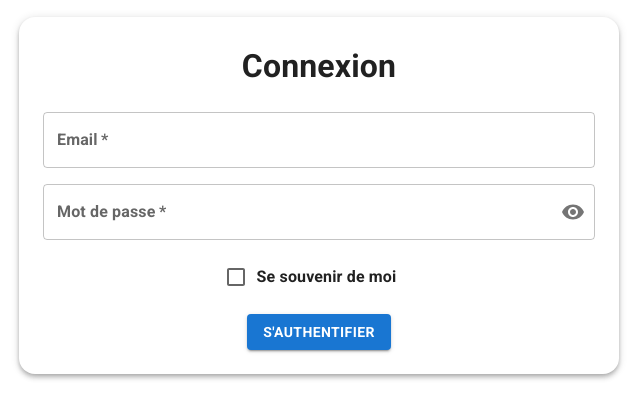
Scenario: LoginPage › toggles password visibility
The width and height of the screenshot is (639, 397).
Click the button named "display the password" at (573, 212), box [553, 192, 593, 232]
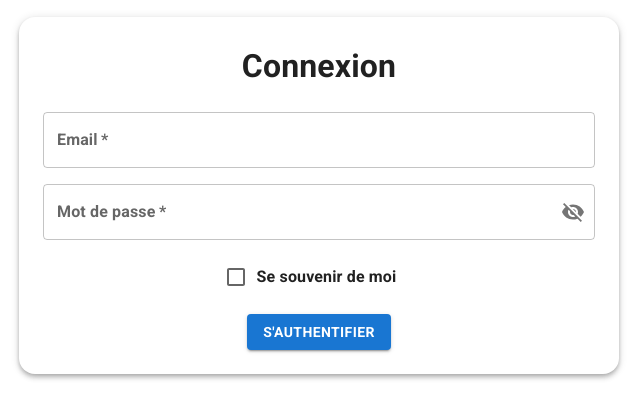
Check: the button named "hide the password" is shown, box [553, 192, 593, 232]
